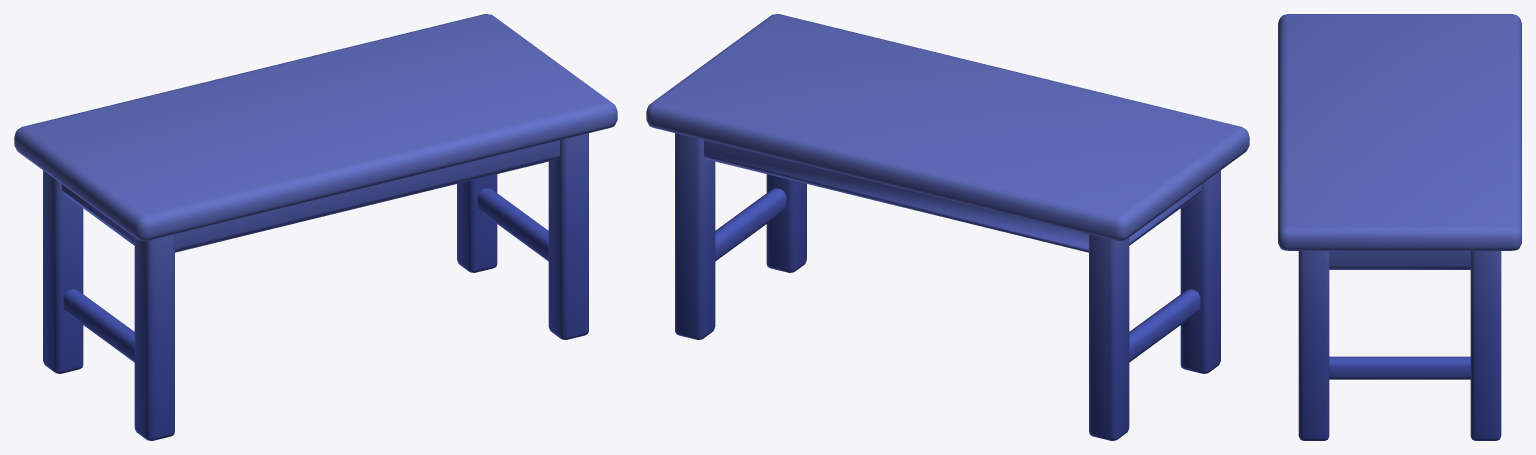
File: Kitchen_Table_11.glb
The picture shows the model from 3 angles, left to right: view 1: azimuth 30°, elevation 25°; view 2: azimuth 150°, elevation 25°; view 3: azimuth 270°, elevation 25°; orthographic projection. The views are drawn at different scales.
Visible parts, largest first — view 1: Kitchen_Table_11; view 2: Kitchen_Table_11; view 3: Kitchen_Table_11.
Part boxes in pixels (left/top/right/bottom): Kitchen_Table_11: left=14, top=14, right=617, bottom=440; Kitchen_Table_11: left=646, top=14, right=1249, bottom=440; Kitchen_Table_11: left=1278, top=14, right=1521, bottom=440.
Size of the model in its own units: 1.6 by 0.7501 by 0.75.
Materials: 1 (1 with a texture image).
